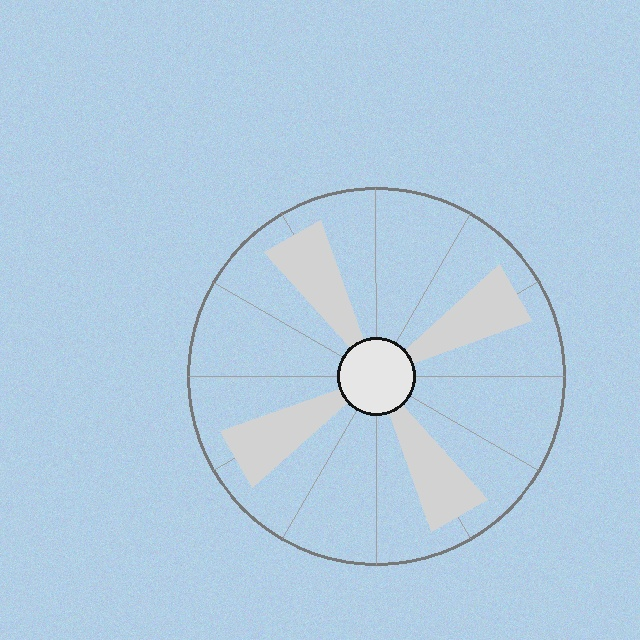fan: (183, 183, 569, 569)
